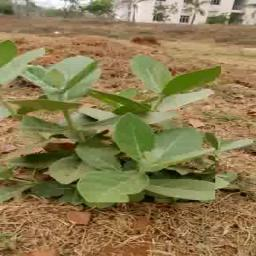CALOTROPIS: (0, 35, 216, 203)
